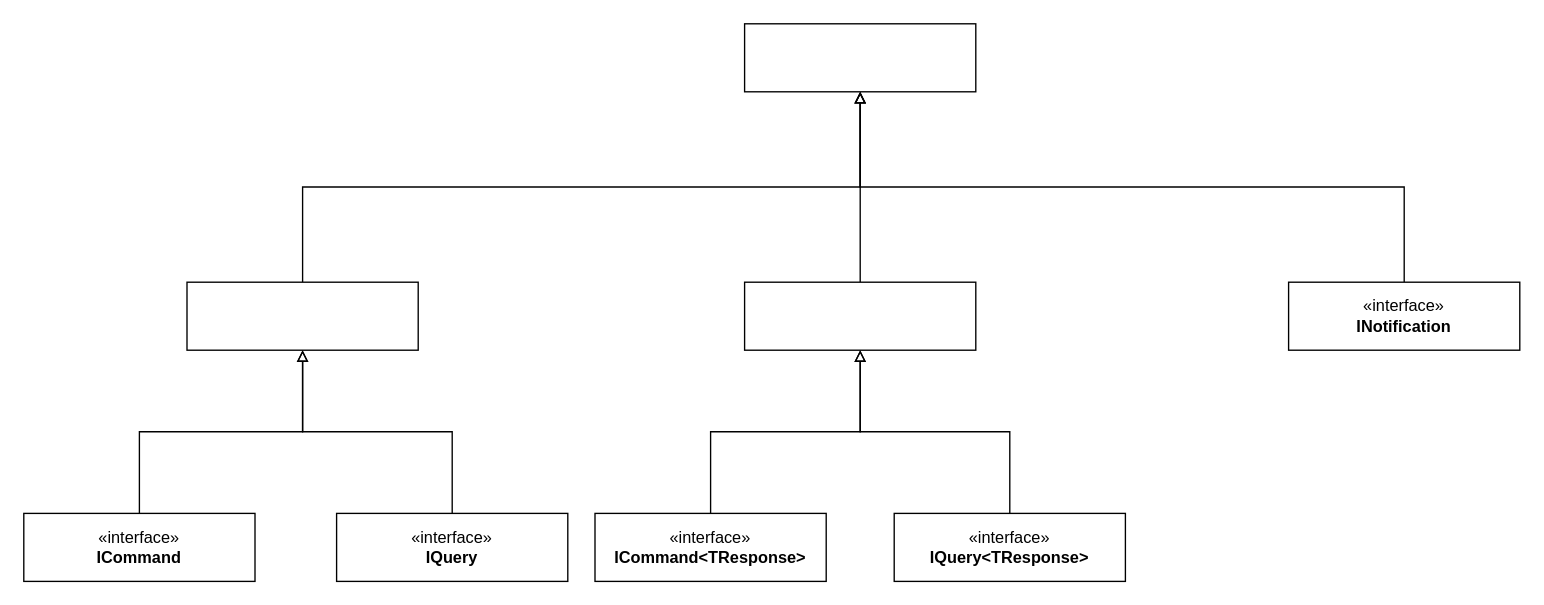
This 1544x605 diagram has some shape labels left out. The centre of each missing label's shape, as x and y in pixels:
«interface» IMediatorSubject: (x=859, y=57)
«interface» IRequest: (x=302, y=315)
«interface» IRequest<TResponse>: (x=859, y=315)
